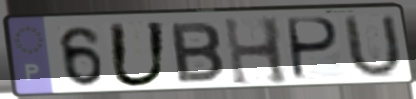6: (56, 24, 106, 89)
B: (168, 21, 227, 86)
H: (220, 16, 292, 88)
P: (287, 15, 343, 83)
U: (105, 20, 170, 90), (343, 12, 405, 81)
